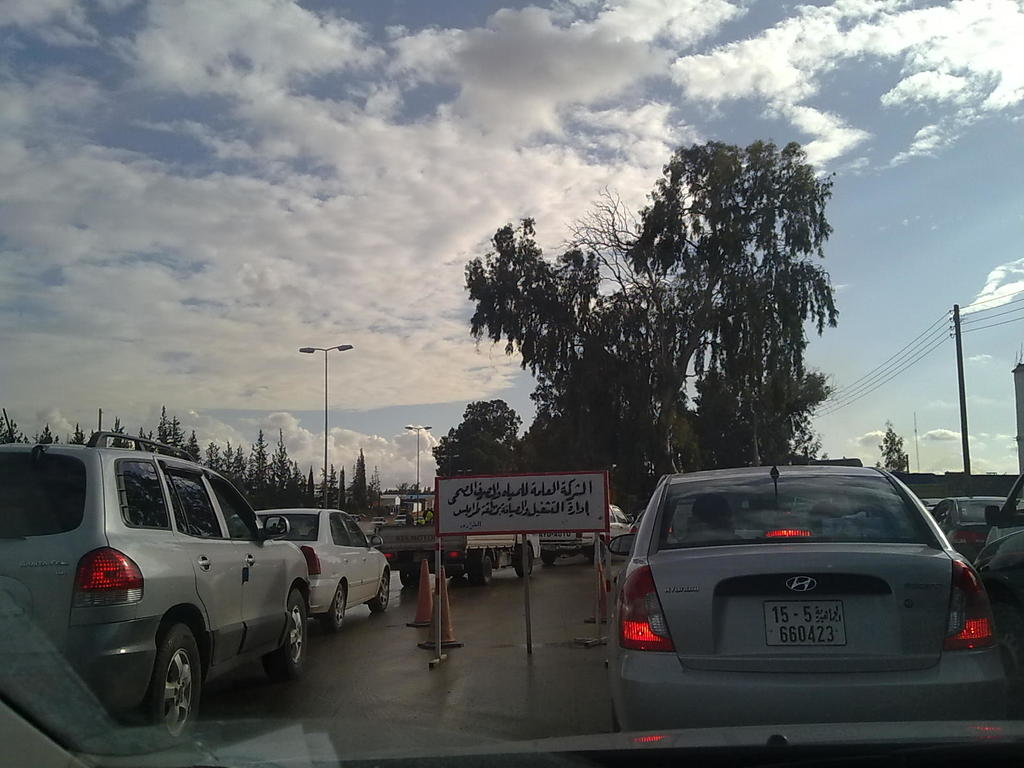license plate: (768, 604, 846, 649)
